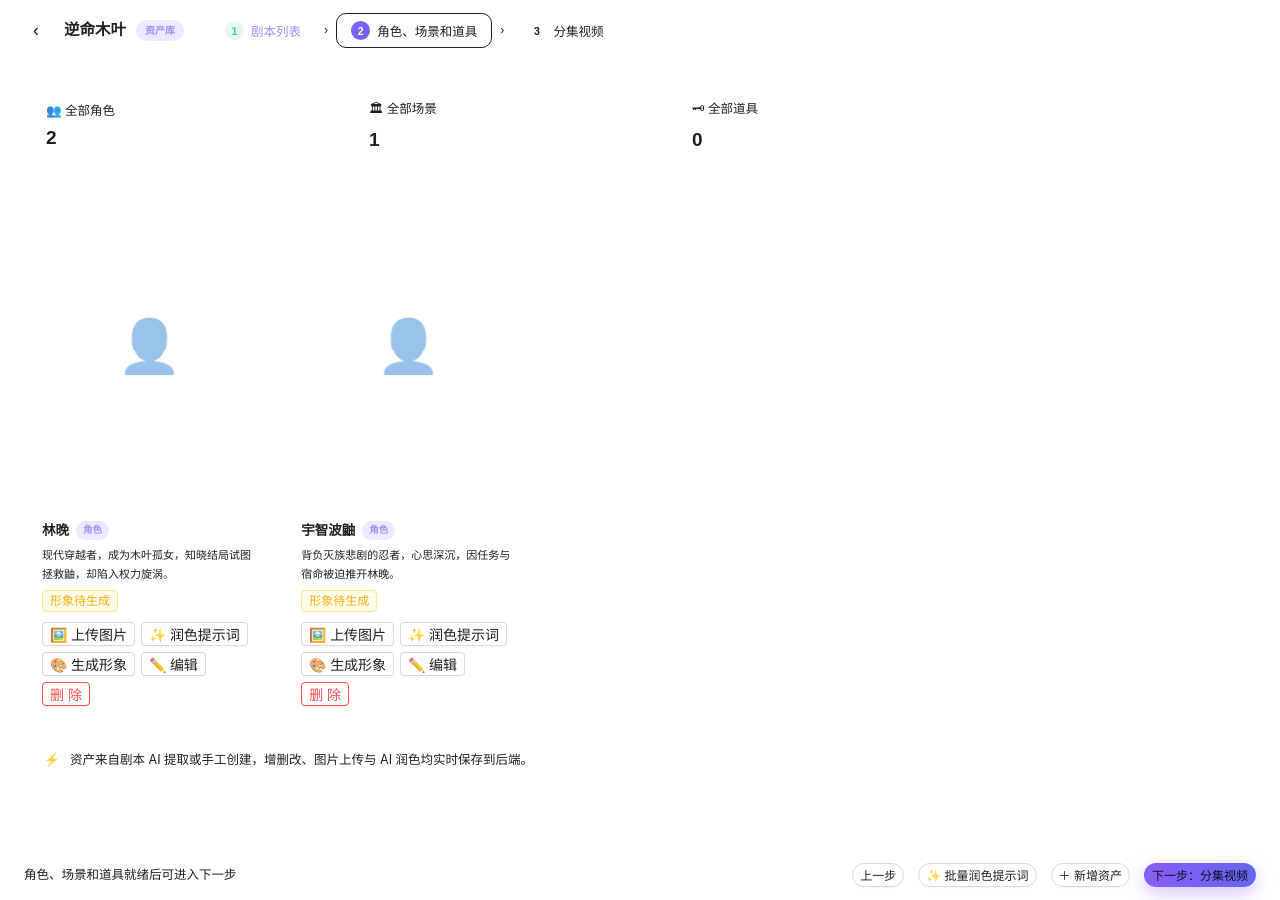
Scenario: AssetsPage 资产工坊 › 编辑资产（改名）立即持久化
Click the button "✏️ 编辑" below "现代穿越者，成为木叶孤女，知晓结局试图拯救鼬，却陷入权力旋涡。" at (173, 664), box x1=141 y1=652 x2=206 y2=676
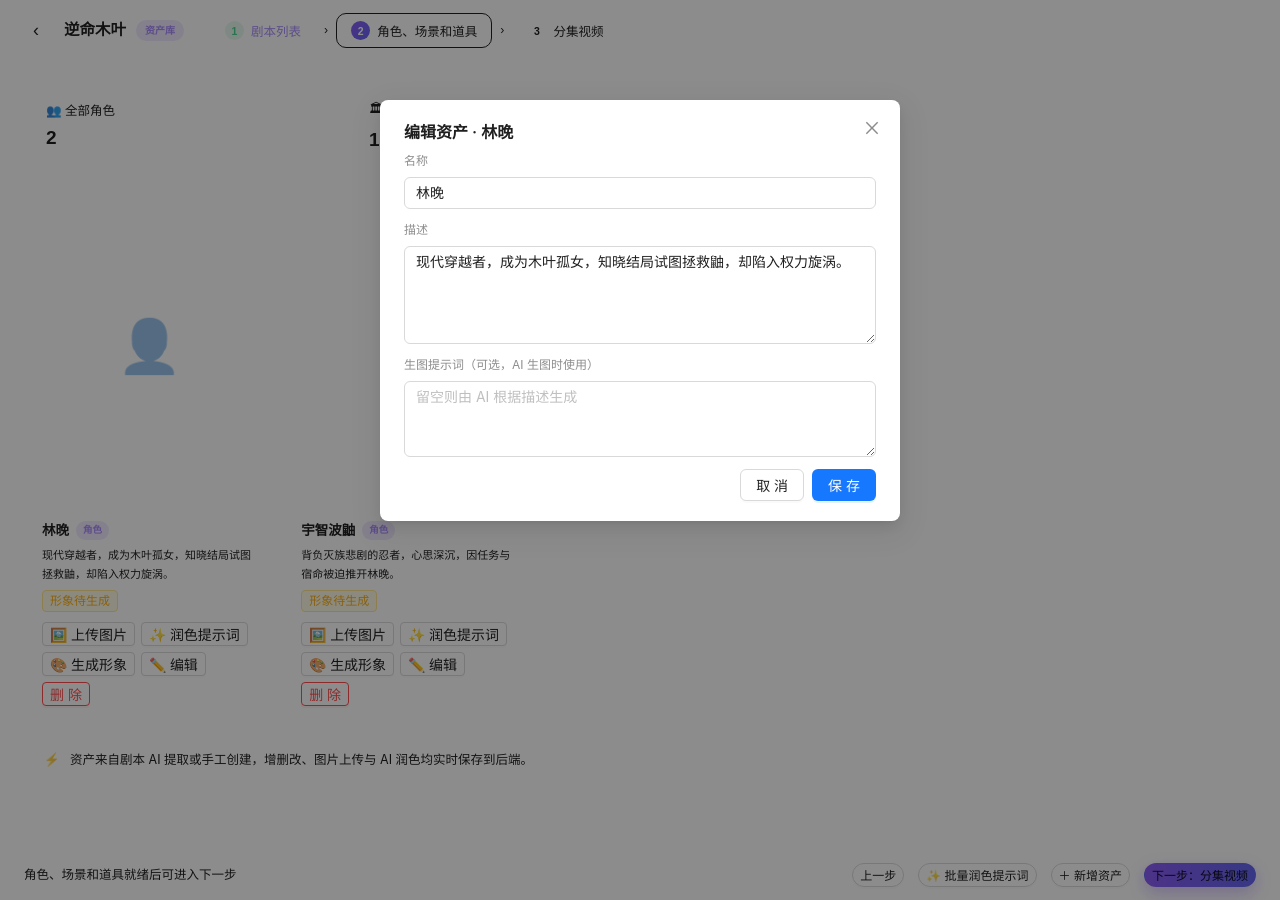
Replace the text in the field showing "林晚" with "林晚·改名" at (640, 193), box x1=404 y1=177 x2=876 y2=209
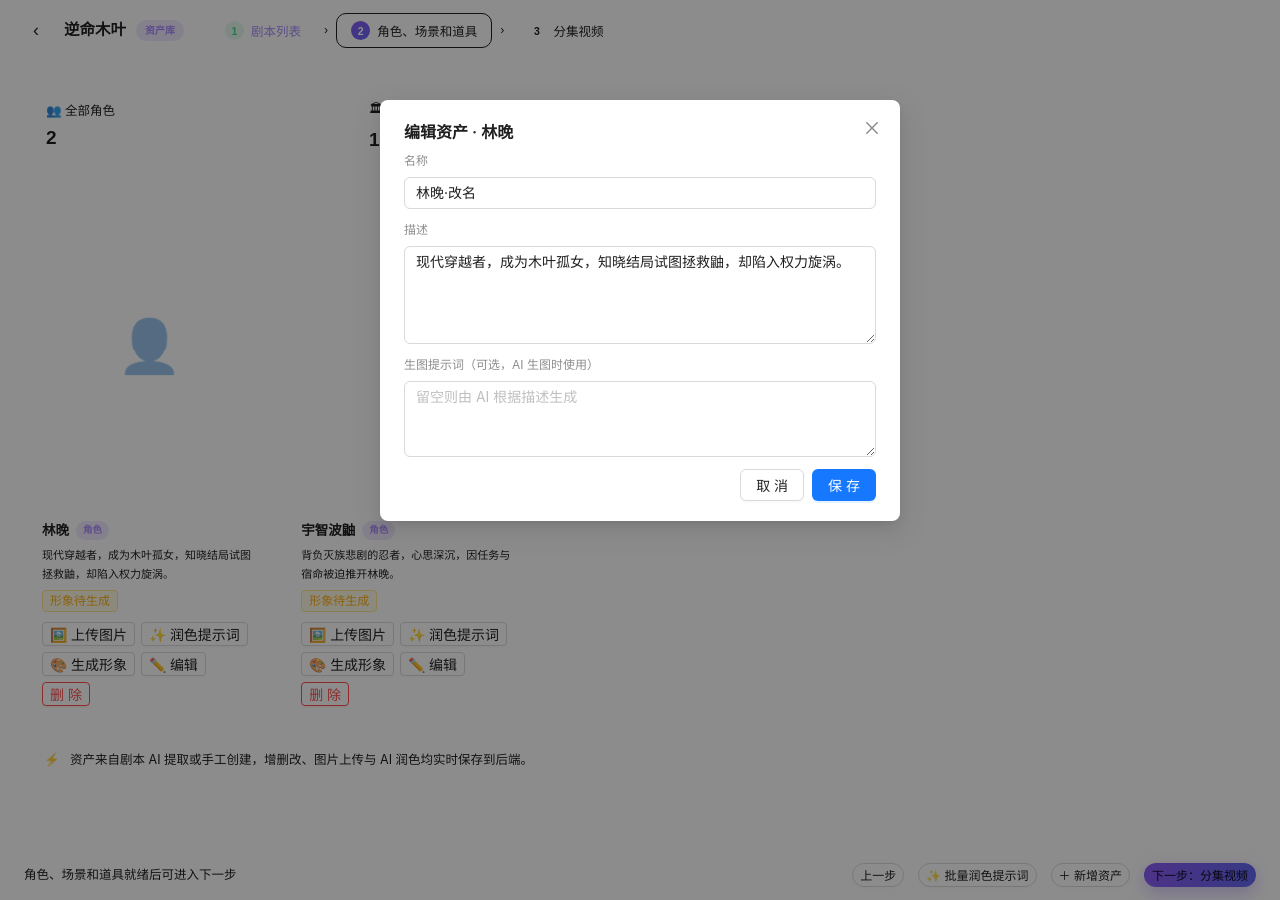
Click the button "保 存" at (844, 484), box x1=812 y1=468 x2=876 y2=500
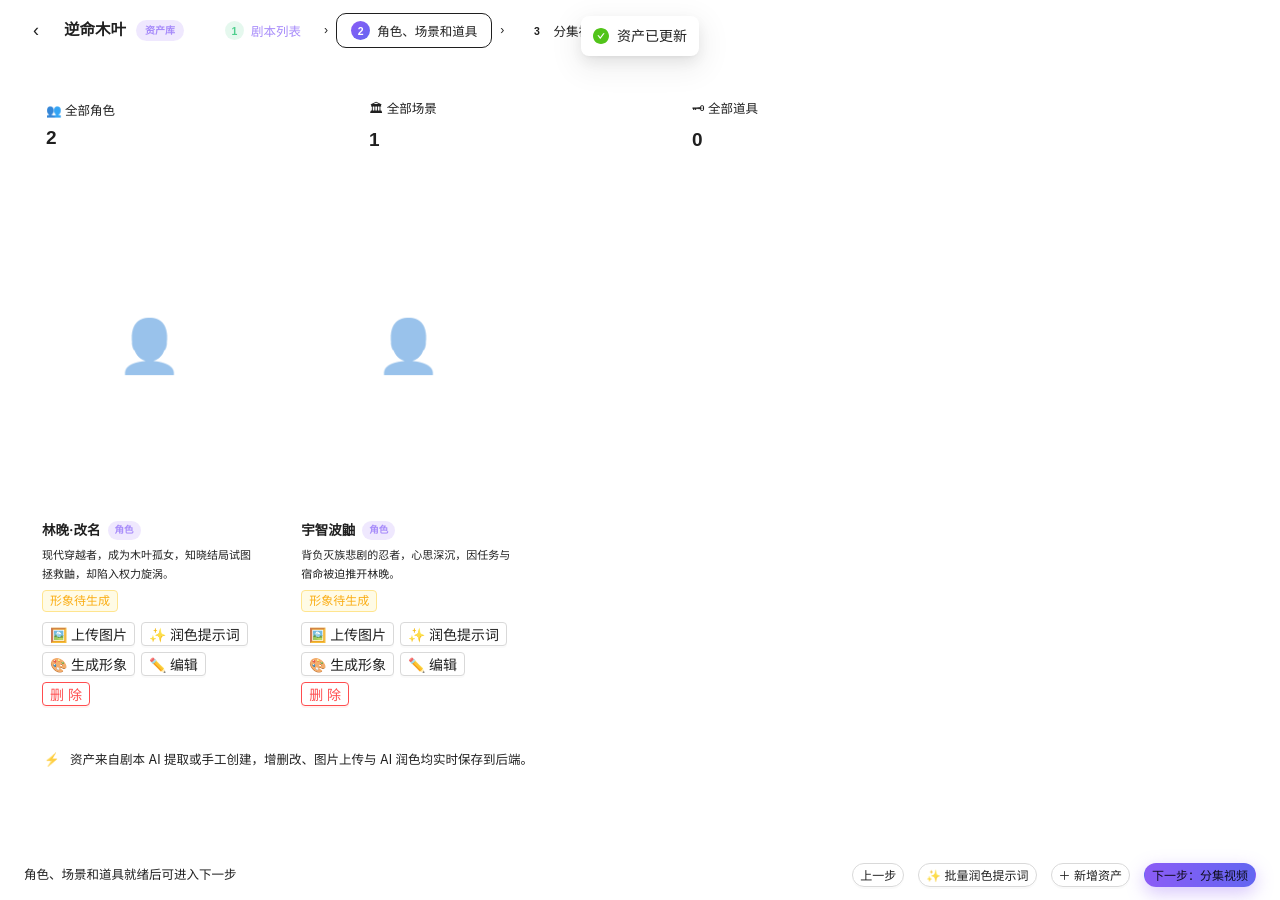
Expected: the text "林晚·改名" is shown, x1=42 y1=522 x2=100 y2=538
